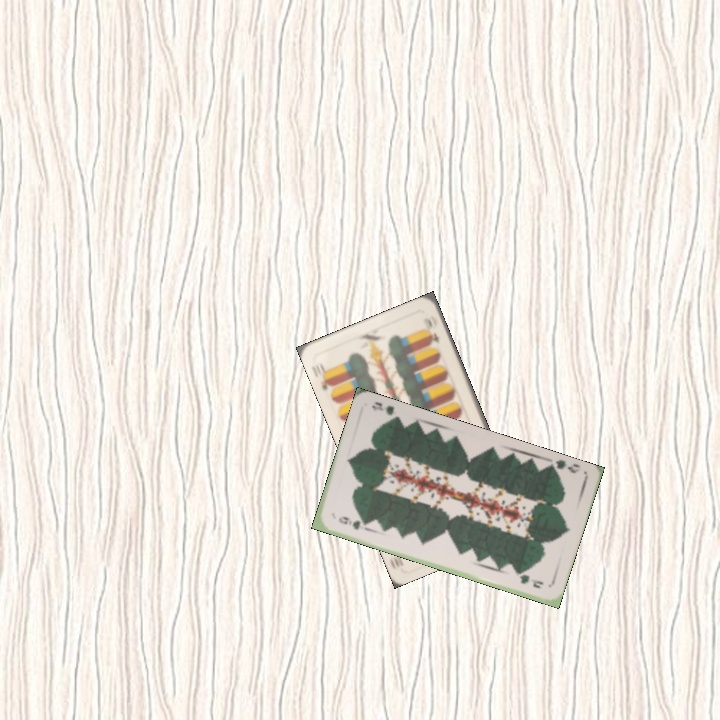E10: (315, 360, 336, 393)
G9: (545, 456, 582, 477), (334, 512, 363, 532)
